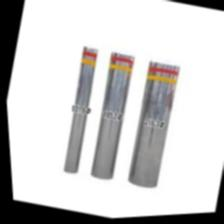Animal: (44, 36, 116, 184), (118, 52, 188, 192), (82, 45, 144, 182)
